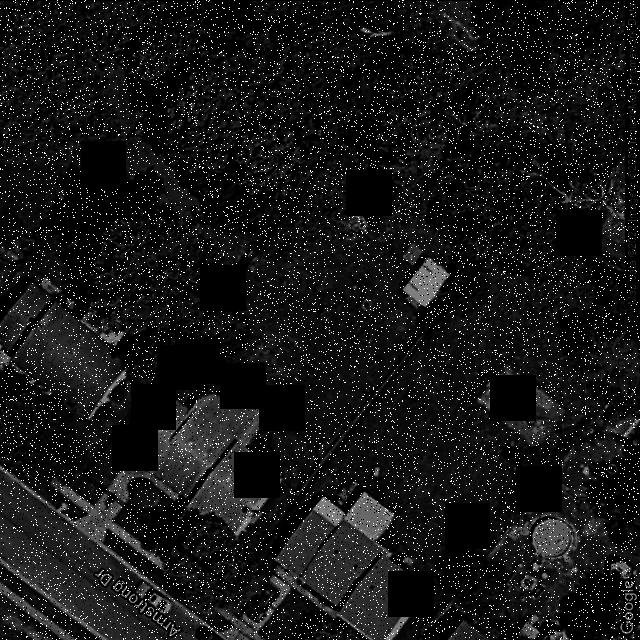Driveway: (108, 462, 146, 503)
Extra Driveway: (74, 492, 123, 542)
Extra Lawn: (104, 528, 216, 622), (113, 506, 162, 550), (71, 474, 105, 504), (57, 496, 89, 519), (157, 540, 173, 560)
Extra Sidewalk: (108, 521, 167, 569), (65, 488, 95, 513)
House: (124, 391, 281, 534)
Other: (399, 252, 451, 306), (402, 242, 423, 264)
Sidewalk: (144, 472, 192, 536)
